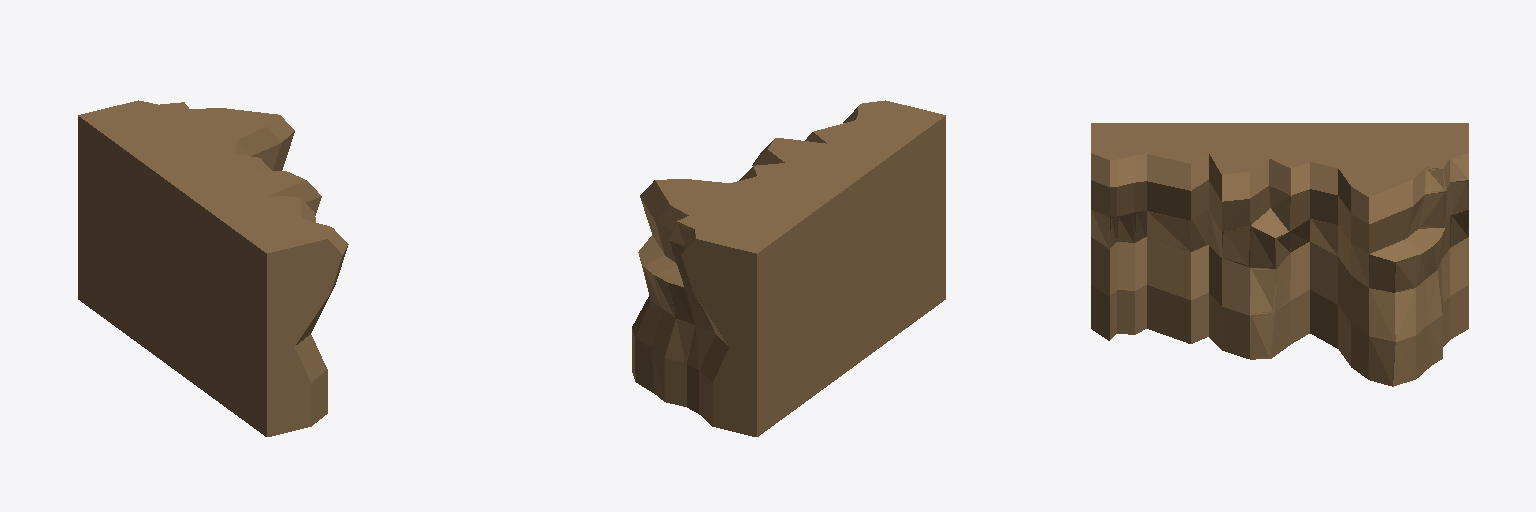
3 renders of one model, left to right at view 1: azimuth 30°, elevation 25°; view 2: azimuth 150°, elevation 25°; view 3: azimuth 270°, elevation 25°, orthographic.
Visible parts, largest first — view 1: cliffSegment; view 2: cliffSegment; view 3: cliffSegment.
Boxes of the visible parts, <box> form: cliffSegment: <box>78,100,348,436</box>; cliffSegment: <box>632,100,945,436</box>; cliffSegment: <box>1091,123,1468,386</box>.
Size of the model in its own units: 8.86 by 9.29 by 17.34.
1 materials, 1 textured.